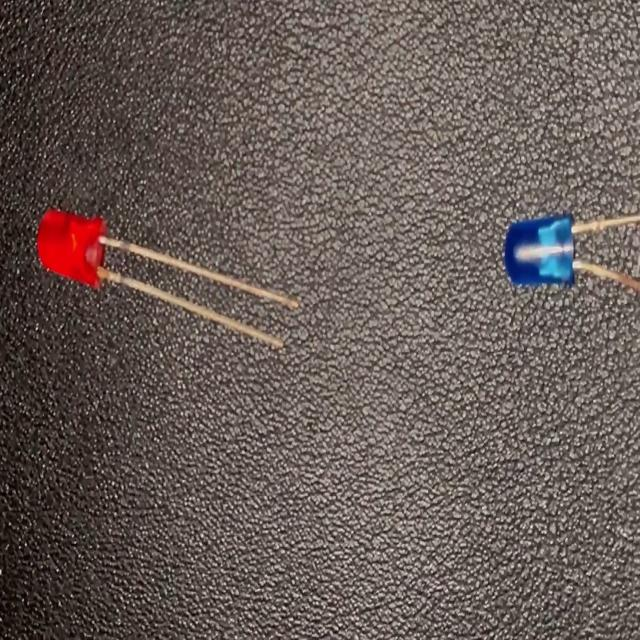LED: (35, 205, 299, 354), (503, 209, 640, 293)
rust: (612, 265, 640, 289)
